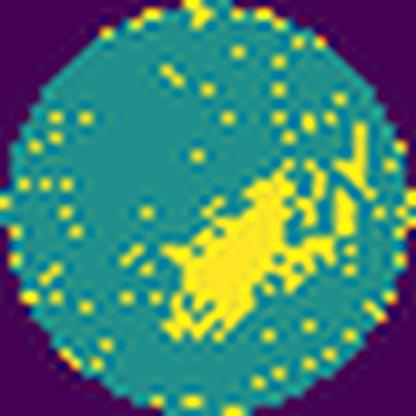Loc: (162, 159, 356, 342), (334, 121, 376, 200)
